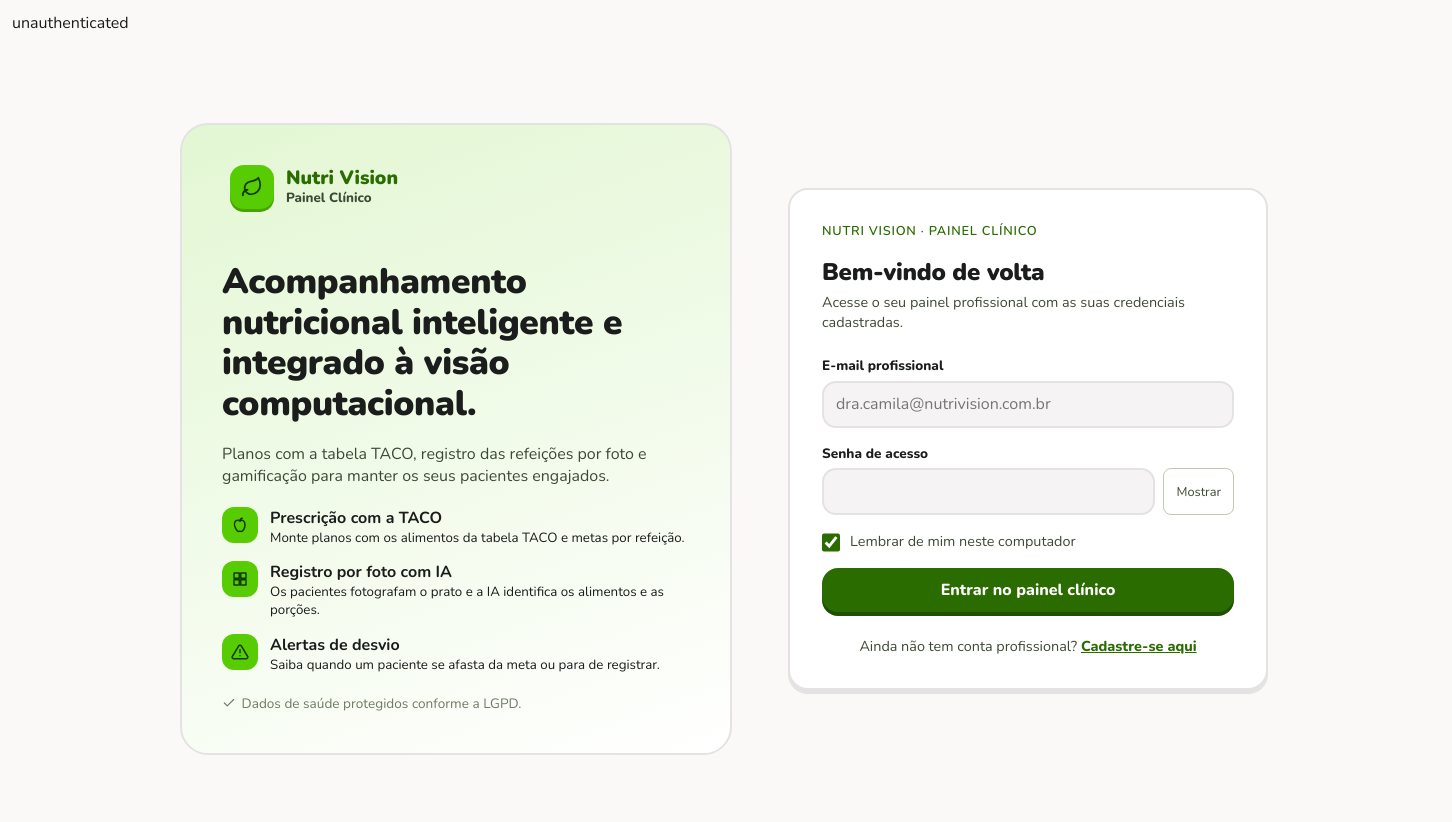
Test: LoginPage › mostra o erro da API (0)
Type "ana@exemplo.com" into the field labelled "E-mail profissional" at x=1028, y=404, box [822, 381, 1234, 428]
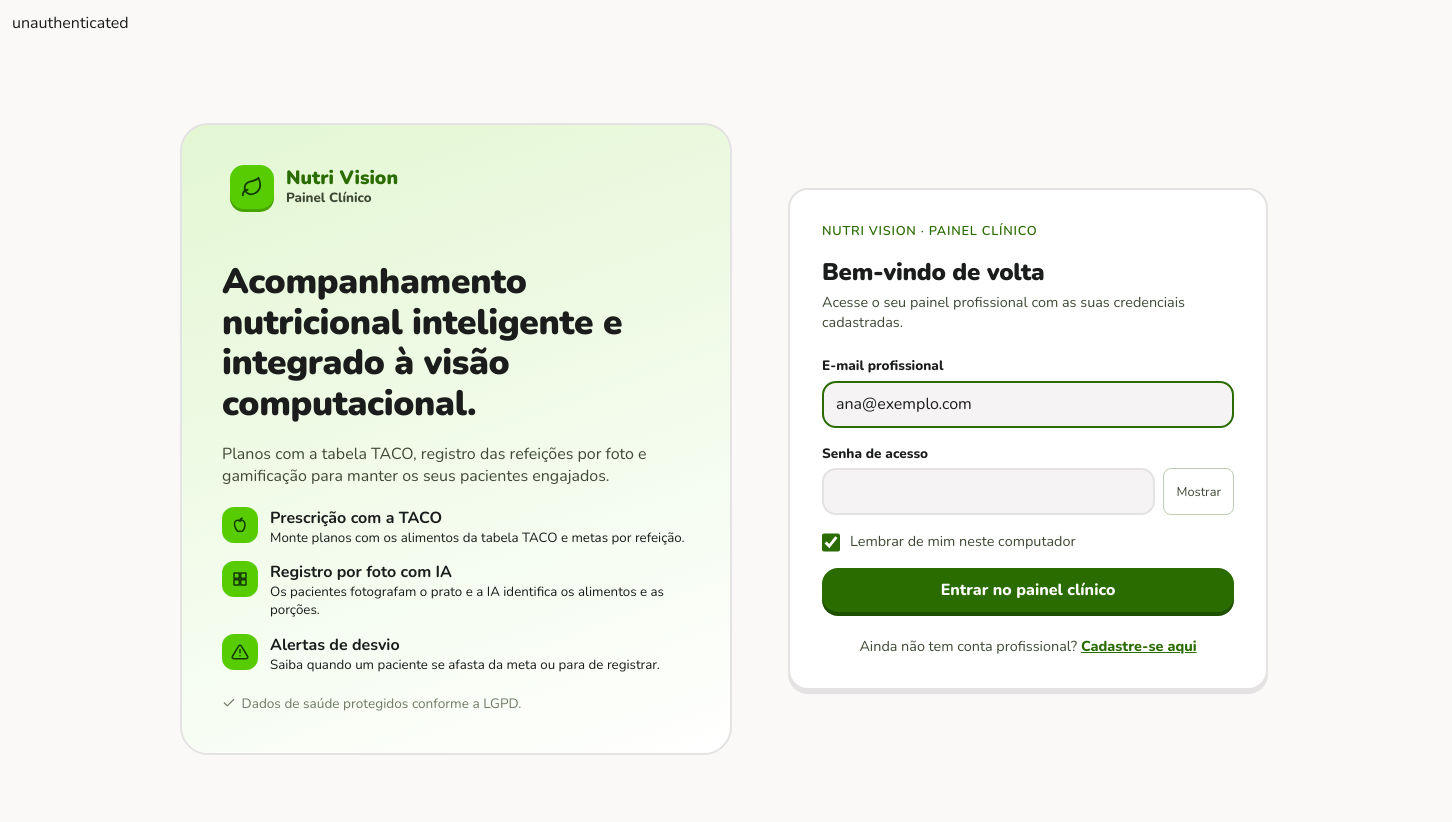
Type "x" into the password field labelled "Senha de acesso" at x=989, y=492, box [822, 468, 1156, 515]
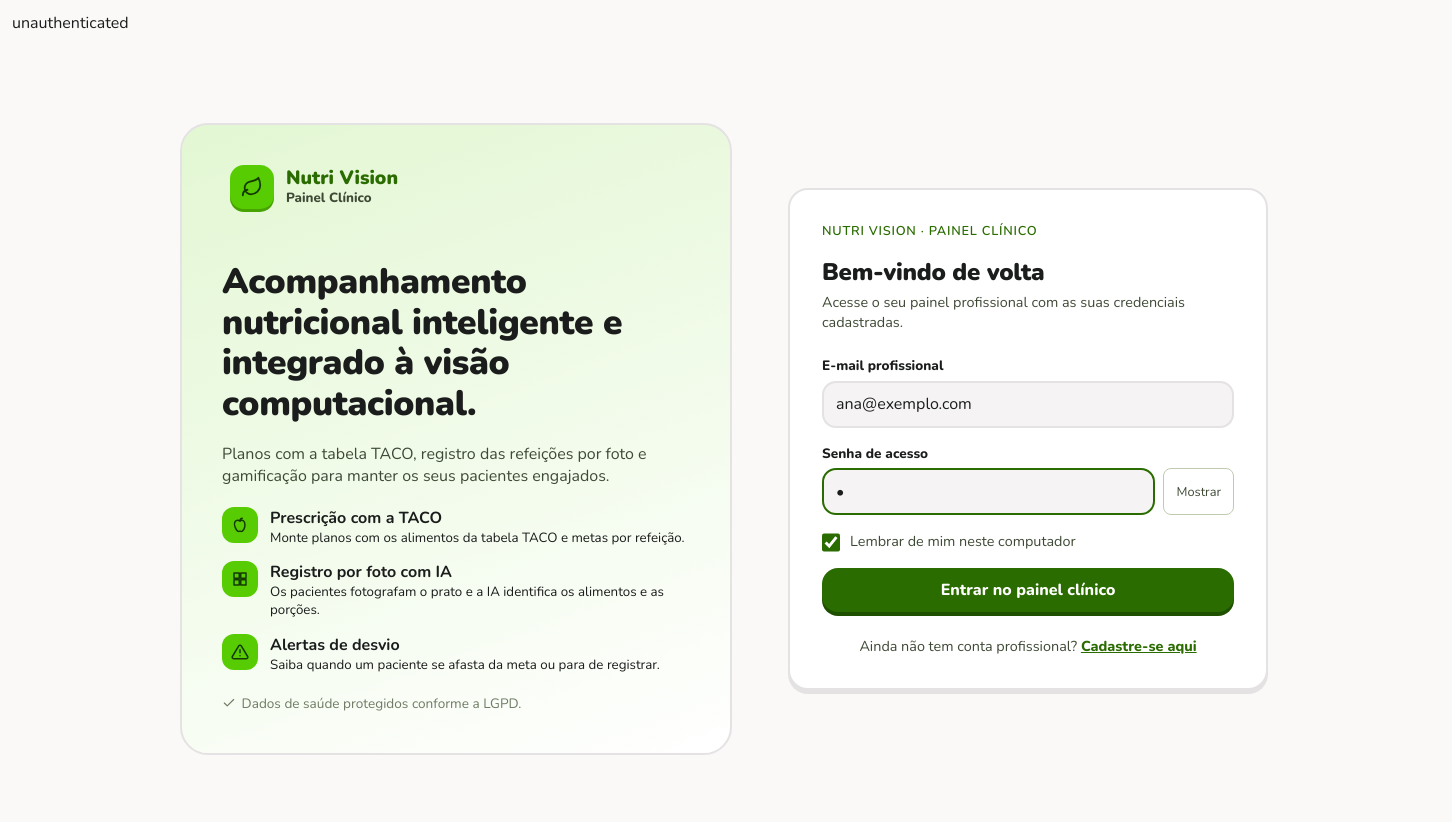
Click the button "Entrar no painel clínico" at x=1028, y=590, box [822, 568, 1234, 612]
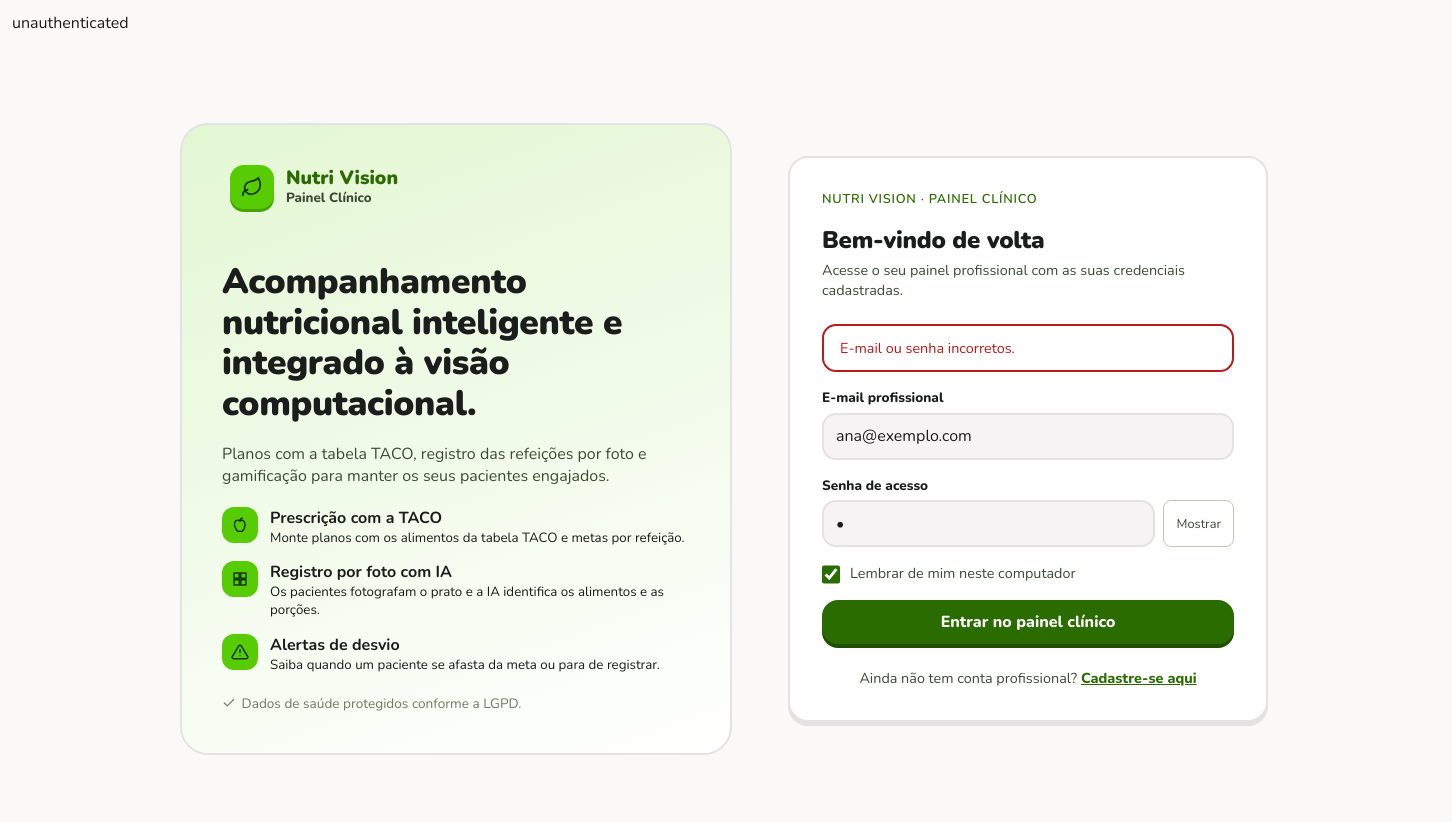
expect the text with test id "status" reads "unauthenticated": met, box [12, 12, 128, 34]
expect the message reads "E-mail ou senha incorretos.": met, box [840, 338, 1015, 358]
